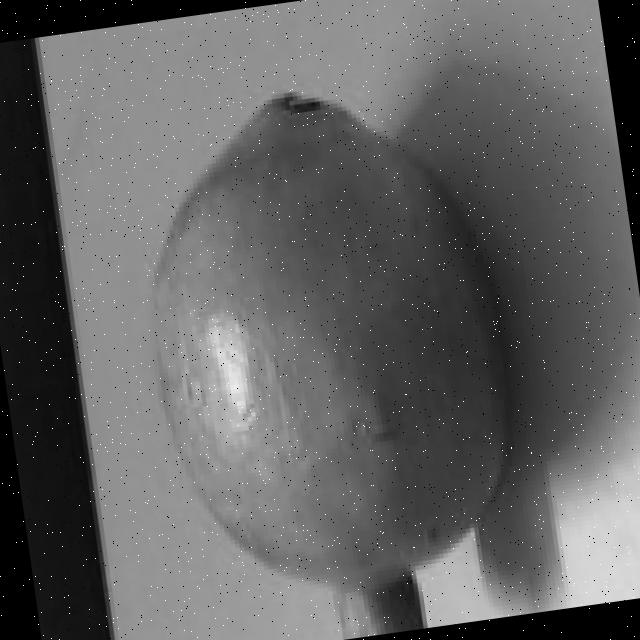Good_Pomegranate-50-60-days: (160, 89, 518, 639)
